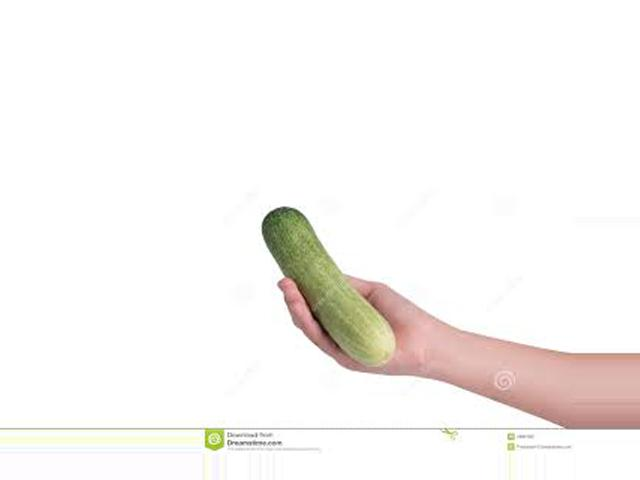cucumber: (263, 208, 395, 365)
